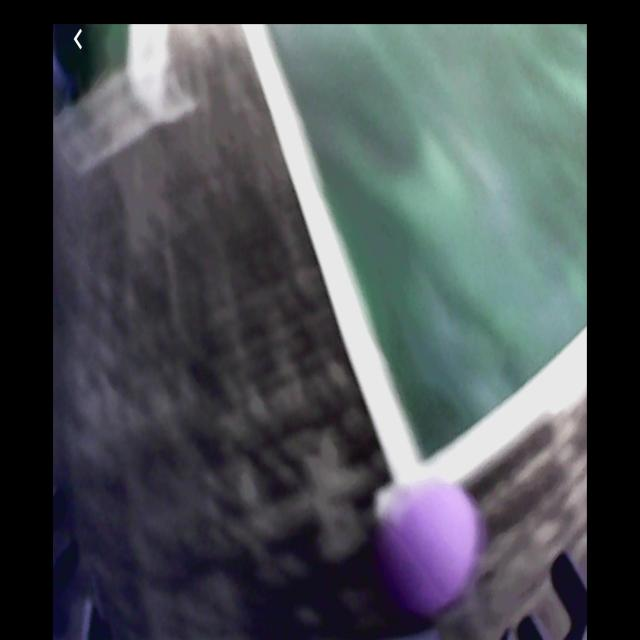ball: (385, 482, 479, 614)
